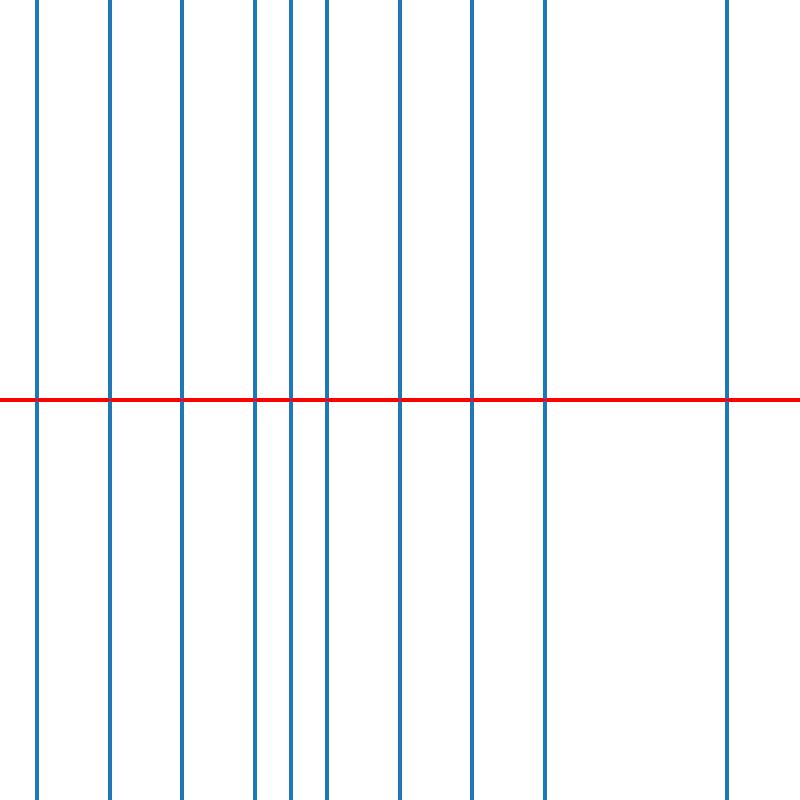root: (541, 396, 549, 404), (32, 396, 40, 404), (250, 396, 258, 404), (287, 396, 294, 404), (323, 396, 330, 404), (469, 396, 476, 404), (105, 396, 112, 404), (723, 396, 730, 404), (178, 396, 185, 404), (396, 396, 403, 404)
